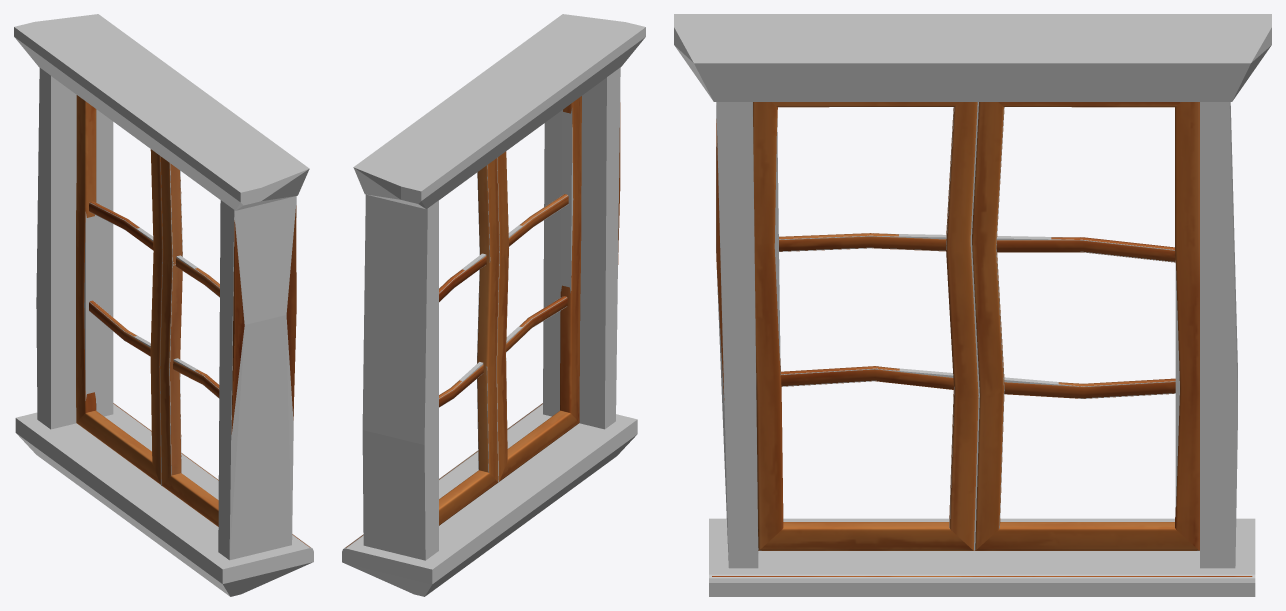
Rendered from SM_PropWindow01TypeE_2_1.fbx.
3 views of the same model, side by side, from view 1: azimuth 30°, elevation 25°; view 2: azimuth 150°, elevation 25°; view 3: azimuth 270°, elevation 25° (orthographic). The views are drawn at different scales.
Visible parts, largest first — view 1: SM_PropWindow01TypeE_2_1_ConvexHulls, SM_PropWindow01TypeE_2_1; view 2: SM_PropWindow01TypeE_2_1_ConvexHulls, SM_PropWindow01TypeE_2_1; view 3: SM_PropWindow01TypeE_2_1_ConvexHulls, SM_PropWindow01TypeE_2_1.
Part boxes in pixels (x1,y1,x2,y2): SM_PropWindow01TypeE_2_1_ConvexHulls: [14, 14, 313, 596]; SM_PropWindow01TypeE_2_1: [76, 95, 310, 547]; SM_PropWindow01TypeE_2_1_ConvexHulls: [342, 14, 645, 596]; SM_PropWindow01TypeE_2_1: [345, 96, 620, 547]; SM_PropWindow01TypeE_2_1_ConvexHulls: [674, 14, 1271, 596]; SM_PropWindow01TypeE_2_1: [712, 102, 1252, 576].
Size of the model in its own units: 44.98 by 194 by 198.
Materials: 2 (1 with a texture image).
